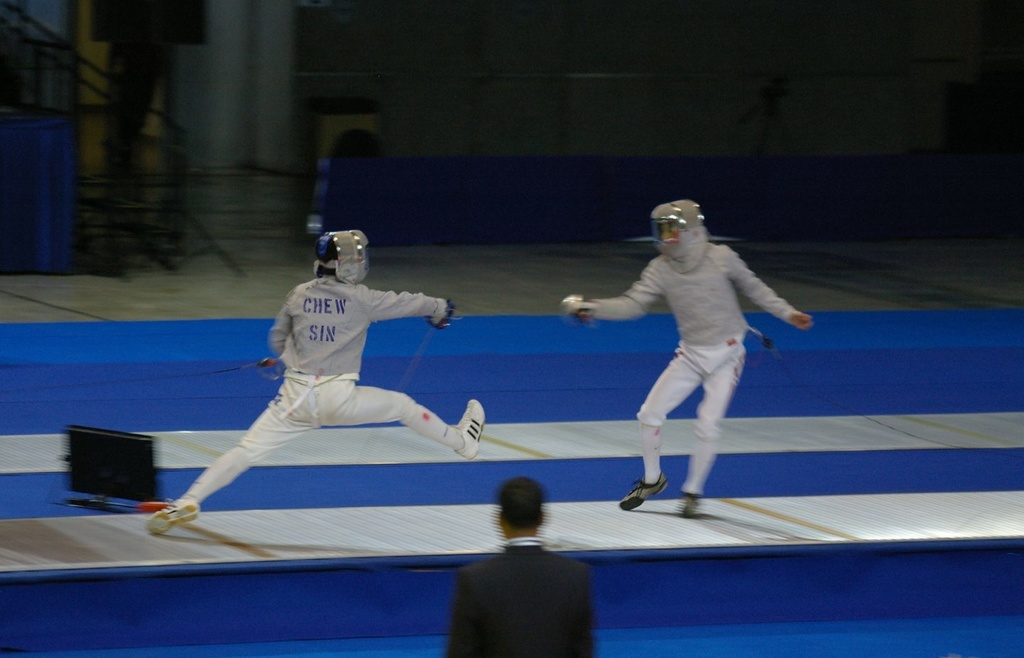Person: (441, 474, 599, 657)
